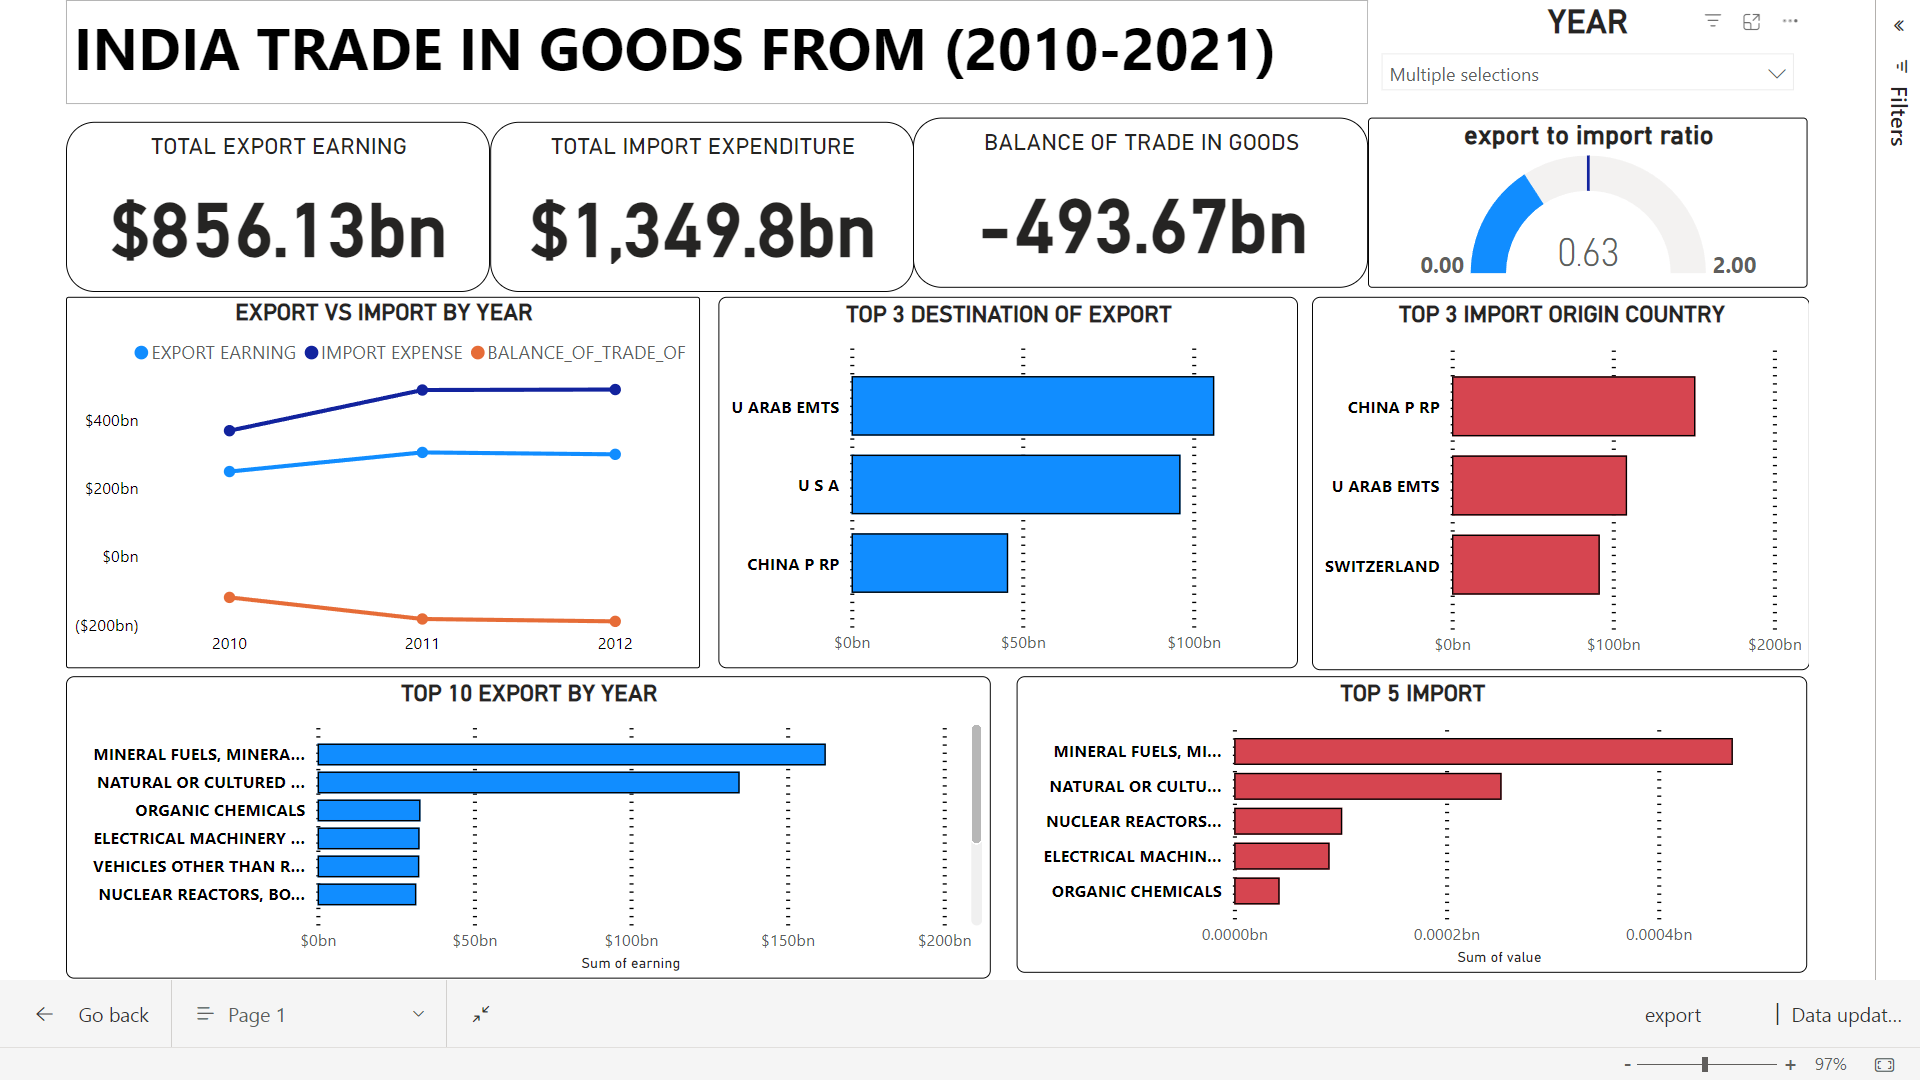

The dashboard page shown, as its layout file describes it:
{"tool":"powerbi","page":{"name":"Page 1","canvas":[1280,720],"ordinal":0},"visuals":[{"type":"textbox","box":[0,0,956.7,76.5],"z":0},{"type":"slicer","title":"YEAR","fields":{"Values":["2010_2021_HS2_import.year"]},"box":[956.7,1.7,322.8,74.9],"z":1000},{"type":"card","title":"TOTAL EXPORT EARNING","fields":{"Values":["Sum(2010_2021_HS2_export.earning)"]},"box":[0,89.9,311.1,124.8],"z":2000},{"type":"card","title":"TOTAL IMPORT EXPENDITURE","fields":{"Values":["Sum(2010_2021_HS2_import.expense_on_import)"]},"box":[311.1,89.9,311.1,124.8],"z":3000},{"type":"card","title":"BALANCE OF TRADE IN GOODS","fields":{"Values":["2010_2021_HS2_import.BALANCE_OF_TRADE_OF"]},"box":[622.3,86.5,334.4,124.8],"z":4000},{"type":"gauge","fields":{"Y":["2010_2021_HS2_export.export to import ratio"]},"box":[956.7,86.5,322.8,124.8],"z":6000},{"type":"lineChart","title":"EXPORT VS IMPORT BY YEAR","fields":{"Category":["2010_2021_HS2_export.year"],"Y":["Sum(2010_2021_HS2_export.earning)","Sum(2010_2021_HS2_import.expense_on_import)","2010_2021_HS2_import.BALANCE_OF_TRADE_OF"]},"box":[0,217.9,465.7,273.1],"z":7000},{"type":"barChart","title":"TOP 10 EXPORT BY YEAR","fields":{"Category":["2010_2021_HS2_export.Commodity"],"Y":["Sum(2010_2021_HS2_export.earning)"]},"box":[0,497,679.1,222.4],"z":7001},{"type":"barChart","title":"TOP 5 IMPORT","fields":{"Category":["2010_2021_HS2_import.Commodity"],"Y":["Sum(2010_2021_HS2_import.value)"]},"box":[698.5,497,580.6,217.9],"z":7002},{"type":"barChart","title":"TOP 3 DESTINATION OF EXPORT","fields":{"Category":["2010_2021_HS2_export.country"],"Y":["Sum(2010_2021_HS2_export.earning)"]},"box":[479.1,217.9,425.4,273.1],"z":7003},{"type":"barChart","title":"TOP 3 IMPORT  ORIGIN COUNTRY","fields":{"Y":["Sum(2010_2021_HS2_import.expense_on_import)"],"Category":["2010_2021_HS2_import.country"]},"box":[914.9,217.9,365.7,274.6],"z":7004}]}

Visuals, with their boxes on the page's 1280x720 design canvas (x1, y1, x2, y2). These are canvas units, not pixel positions in the 1920x1080 screenshot, which may show the page scaled, cropped or inside an application window:
textbox: l=0, t=0, r=957, b=76
"YEAR" slicer: l=957, t=2, r=1280, b=77
"TOTAL EXPORT EARNING" card: l=0, t=90, r=311, b=215
"TOTAL IMPORT EXPENDITURE" card: l=311, t=90, r=622, b=215
"BALANCE OF TRADE IN GOODS" card: l=622, t=86, r=957, b=211
gauge - 2010_2021_HS2_export.export to import ratio: l=957, t=86, r=1280, b=211
"EXPORT VS IMPORT BY YEAR" lineChart: l=0, t=218, r=466, b=491
"TOP 10 EXPORT BY YEAR" barChart: l=0, t=497, r=679, b=719
"TOP 5 IMPORT" barChart: l=698, t=497, r=1279, b=715
"TOP 3 DESTINATION OF EXPORT" barChart: l=479, t=218, r=904, b=491
"TOP 3 IMPORT  ORIGIN COUNTRY" barChart: l=915, t=218, r=1281, b=492
